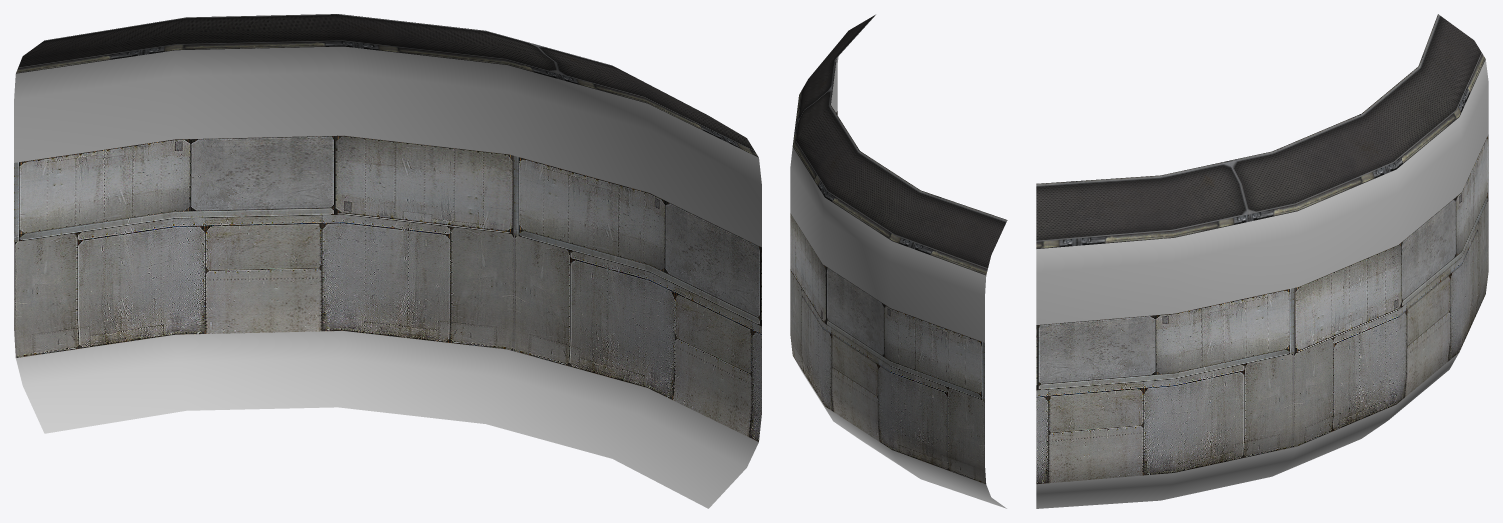
Rendered from Wall_L_Mid4mts_00.fbx.
3 renders of one model, left to right at view 1: azimuth 30°, elevation 25°; view 2: azimuth 150°, elevation 25°; view 3: azimuth 270°, elevation 25°, orthographic. The views are drawn at different scales.
Parts seen in each view (by area): view 1: Wall_L_Mid4mts_00; view 2: Wall_L_Mid4mts_00; view 3: Wall_L_Mid4mts_00.
Boxes of the visible parts, <box> form: Wall_L_Mid4mts_00: <box>14,14,761,508</box>; Wall_L_Mid4mts_00: <box>790,14,1007,508</box>; Wall_L_Mid4mts_00: <box>1036,14,1488,508</box>.
Size of the model in its own units: 505 by 400 by 504.
